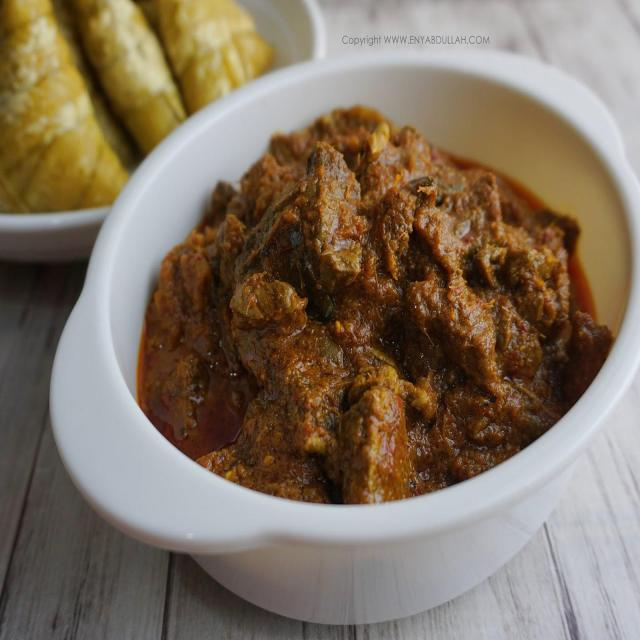Rendang: (148, 92, 610, 489)
